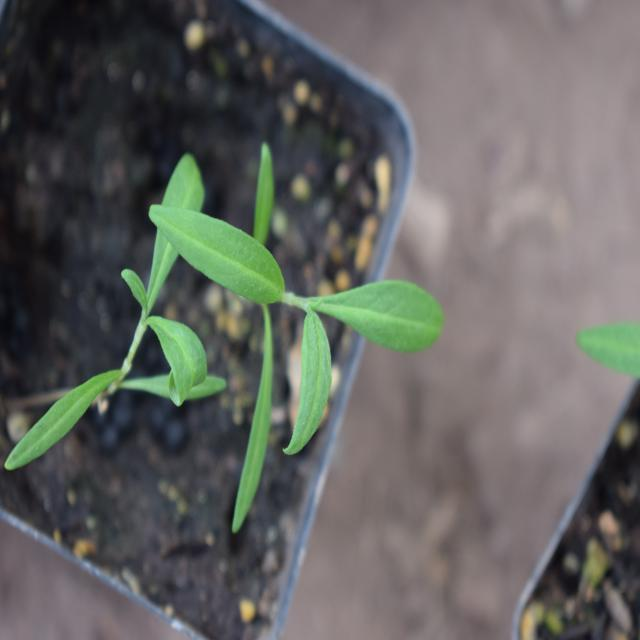white_smart_weed: (175, 146, 437, 497)
